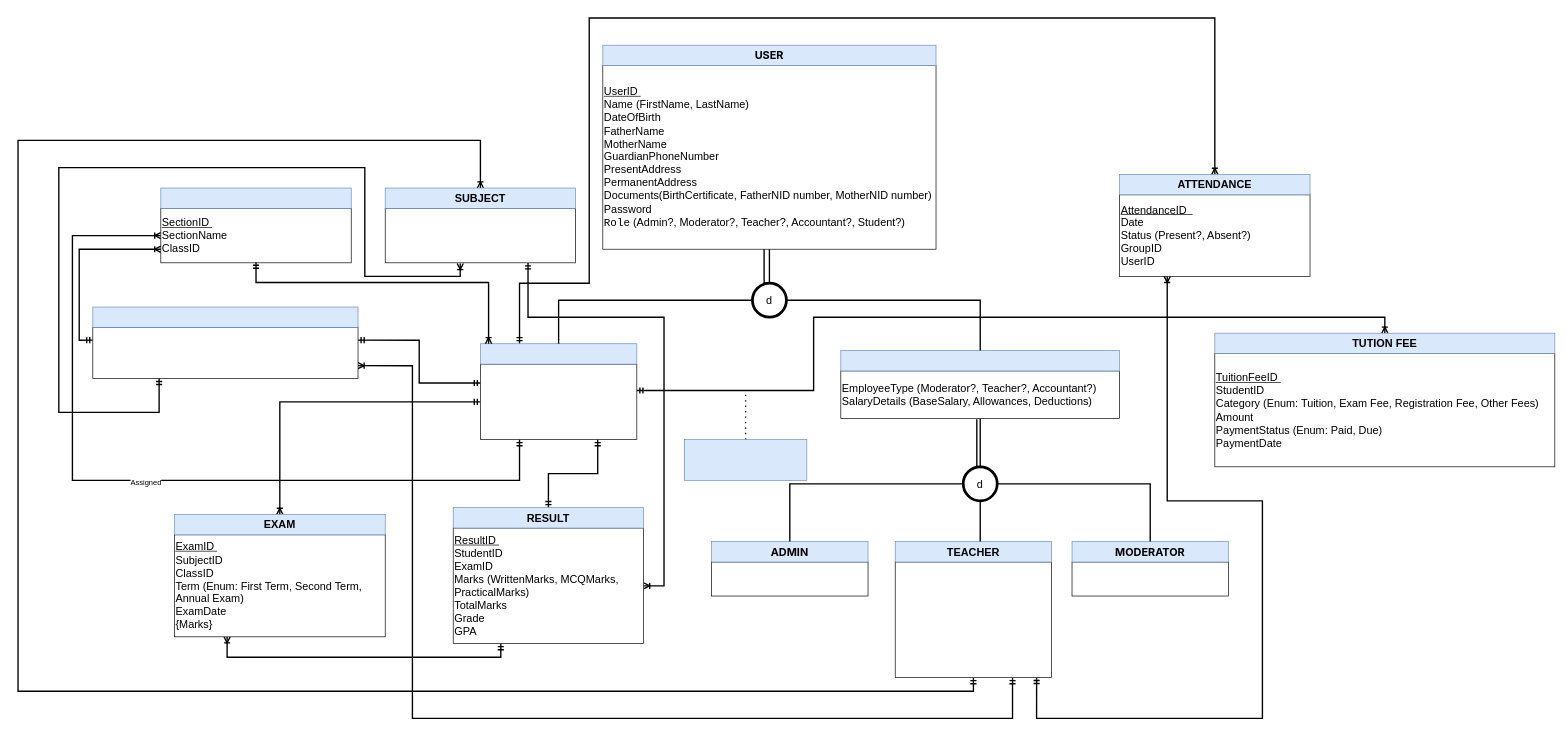
Image size: 1567x736. Some labels were removed from this diagram. The box of each missing label's shape, as (x1, y1, x2, y2) in pixels:
CLASS: (92, 306, 358, 327)
ClassID Subject: (92, 327, 358, 378)
ENPLOYEE: (840, 350, 1120, 371)
PaymentHistory: (684, 439, 807, 480)
RollNumber ClassID SectionID {SubjectsAssigned } {Exams(Term name,Date)}: (480, 363, 637, 440)
SECTION: (160, 187, 351, 208)
STUDENT: (480, 343, 637, 364)
SubjectID SubjectName ClassID: (385, 208, 576, 263)
TeacherID SubjectID ClassID {ClassesAssigned}: (895, 561, 1052, 678)
